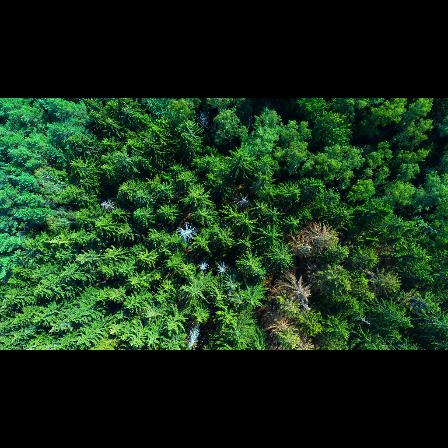Dead: (289, 220, 339, 259), (273, 273, 311, 304), (185, 321, 205, 349), (175, 222, 200, 244), (231, 191, 253, 210), (216, 260, 230, 275), (196, 261, 209, 272)
